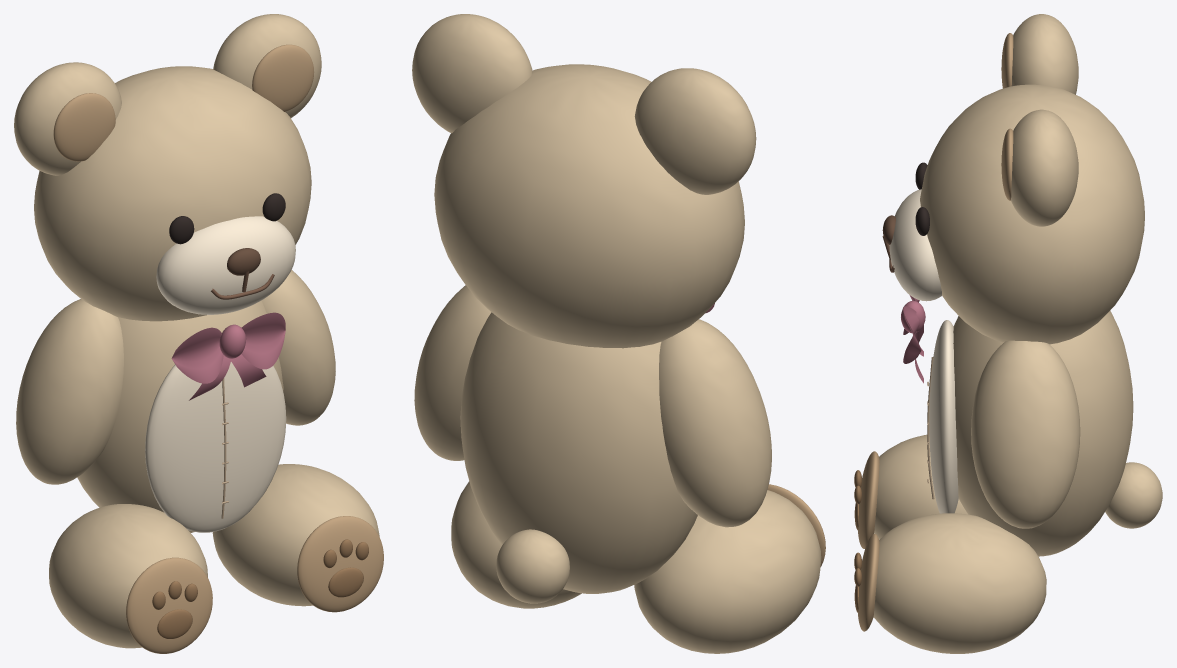
The model's file is teddy-bear.glb.
The picture shows the model from 3 angles, left to right: view 1: azimuth 30°, elevation 25°; view 2: azimuth 150°, elevation 25°; view 3: azimuth 270°, elevation 25°; orthographic projection. The views are drawn at different scales.
Parts seen in each view (by area): view 1: teddy-bear-plush:#dcc6a4, teddy-bear-cream:#f6e8d2, teddy-bear-cream:#bfa07c, teddy-bear-satin:#b57485, teddy-bear-cream:#977655, teddy-bear-dark:#332a27, teddy-bear-dark:#674e3e; view 2: teddy-bear-plush:#dcc6a4, teddy-bear-cream:#bfa07c; view 3: teddy-bear-plush:#dcc6a4, teddy-bear-cream:#f6e8d2, teddy-bear-cream:#bfa07c, teddy-bear-satin:#b57485, teddy-bear-cream:#977655, teddy-bear-dark:#332a27.
Boxes of the visible parts, x1=… form: teddy-bear-plush:#dcc6a4: x1=14, y1=14, x2=379, y2=648; teddy-bear-cream:#f6e8d2: x1=145, y1=216, x2=295, y2=532; teddy-bear-cream:#bfa07c: x1=53, y1=44, x2=383, y2=653; teddy-bear-satin:#b57485: x1=171, y1=312, x2=285, y2=400; teddy-bear-cream:#977655: x1=152, y1=539, x2=368, y2=638; teddy-bear-dark:#332a27: x1=169, y1=193, x2=285, y2=244; teddy-bear-dark:#674e3e: x1=227, y1=248, x2=260, y2=275; teddy-bear-plush:#dcc6a4: x1=412, y1=14, x2=821, y2=653; teddy-bear-cream:#bfa07c: x1=767, y1=484, x2=825, y2=566; teddy-bear-plush:#dcc6a4: x1=873, y1=14, x2=1162, y2=653; teddy-bear-cream:#f6e8d2: x1=889, y1=189, x2=958, y2=513; teddy-bear-cream:#bfa07c: x1=858, y1=33, x2=1013, y2=631; teddy-bear-satin:#b57485: x1=901, y1=295, x2=925, y2=383; teddy-bear-cream:#977655: x1=854, y1=470, x2=861, y2=612; teddy-bear-dark:#332a27: x1=915, y1=162, x2=929, y2=235.
Bounding box in the file's own units: 0.8924 × 1.52 × 0.79.
